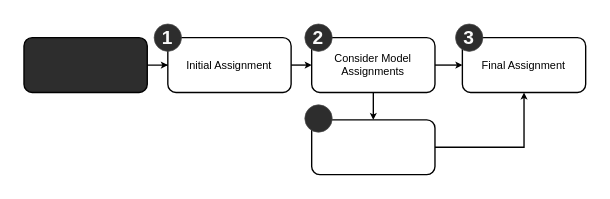
Image size: 610x199. Some labels were removed from this diagram. Each missing label, with the centre of its shape:
2a: (x=318, y=118)
Physician: (x=85, y=64)
Revise Assignment (Optional): (x=372, y=147)
